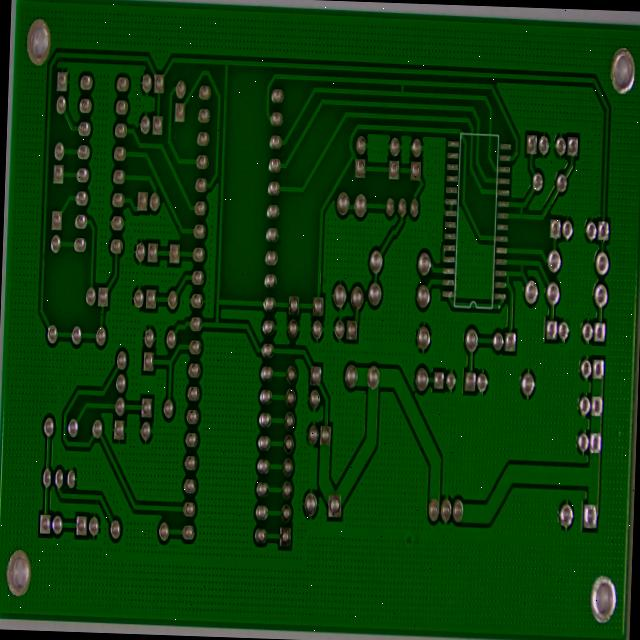short: (515, 258, 529, 283), (396, 74, 409, 100), (517, 200, 527, 223), (503, 272, 512, 289)
